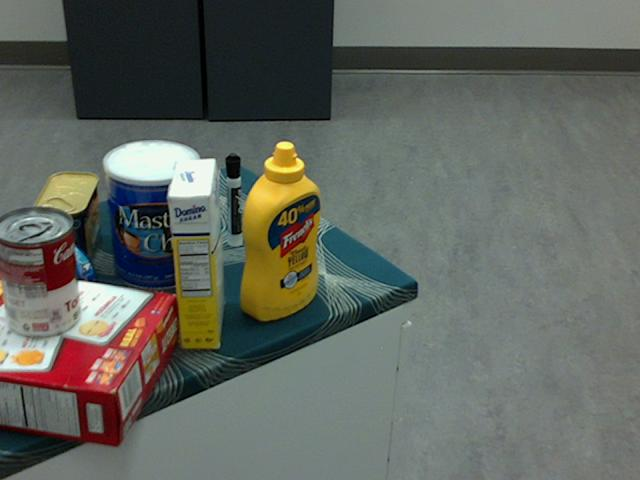cracker_box: (0, 267, 177, 446)
large_marker: (225, 153, 242, 246)
master_chef_can: (101, 140, 200, 291)
mug: (112, 142, 203, 223)
mustard_bottle: (239, 140, 321, 320)
potted_meat_can: (33, 170, 100, 274)
sugar_box: (166, 156, 224, 349)
tomato_soup_can: (0, 207, 80, 338)
tuna_fish_can: (9, 237, 96, 322)
